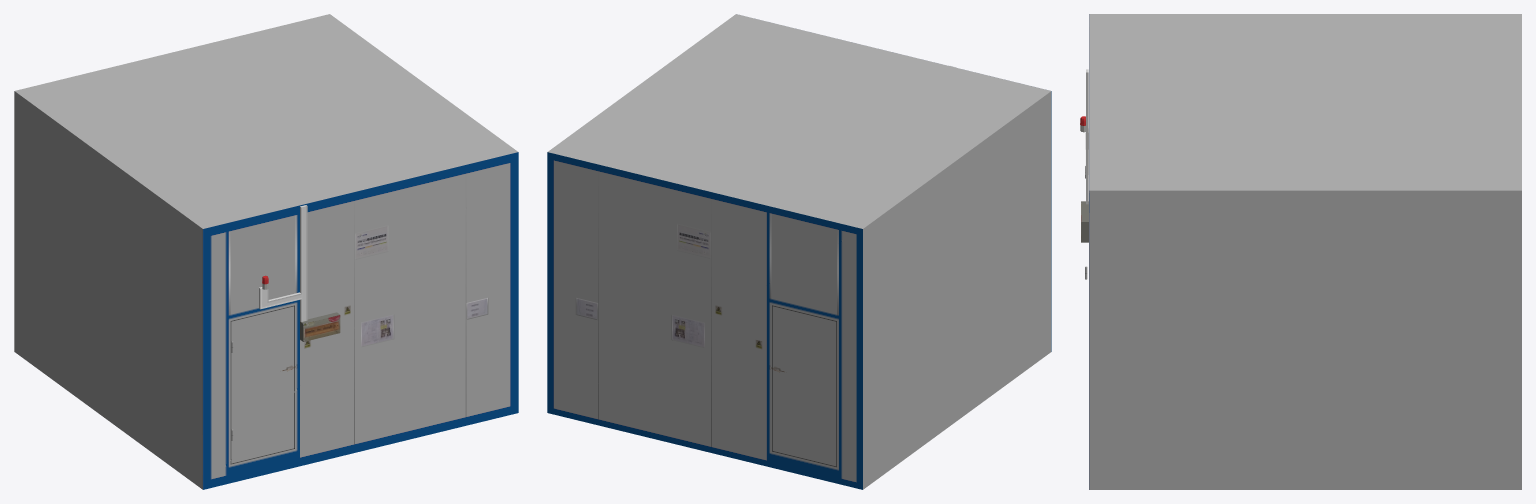
Rendered from dianxiang03.FBX.
3 renders of one model, left to right at view 1: azimuth 30°, elevation 25°; view 2: azimuth 150°, elevation 25°; view 3: azimuth 270°, elevation 25°, orthographic. The views are drawn at different scales.
Parts seen in each view (by area): view 1: YF_Model_dianxiang03; view 2: YF_Model_dianxiang03; view 3: YF_Model_dianxiang03.
Boxes of the visible parts, <box> form: YF_Model_dianxiang03: <box>14,14,518,489</box>; YF_Model_dianxiang03: <box>547,14,1051,489</box>; YF_Model_dianxiang03: <box>1080,14,1521,489</box>.
Bounding box in the file's own units: 358 × 283 × 378.
1 material, 1 textured.
